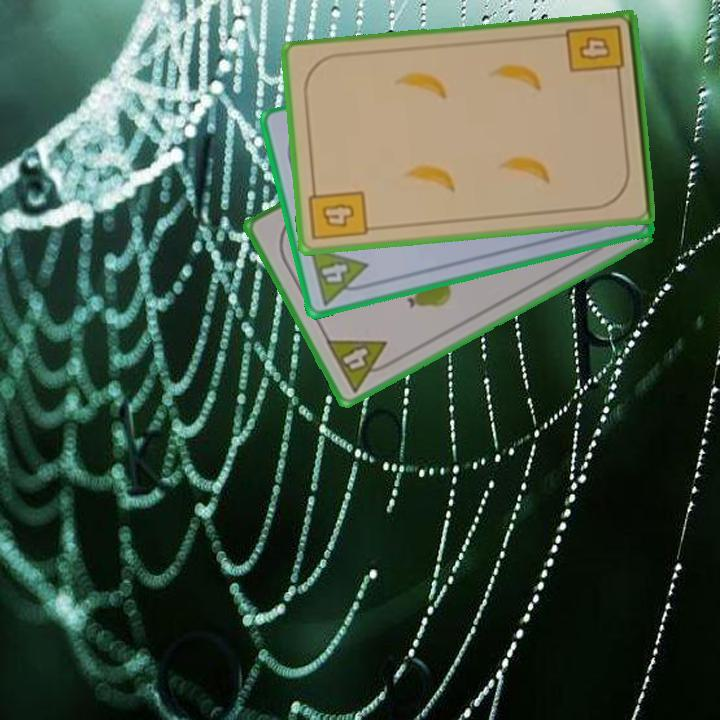4b: (563, 21, 628, 85), (306, 181, 370, 243)
4p: (322, 335, 399, 396), (306, 244, 375, 308)
